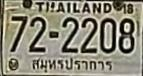0: (99, 17, 115, 52)
2: (80, 17, 97, 52), (62, 16, 78, 52), (29, 16, 45, 51)
7: (10, 15, 27, 51)
8: (118, 17, 134, 53)
SPK: (29, 56, 117, 74)
